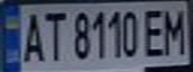0: (121, 7, 142, 58)
1: (90, 7, 109, 60), (109, 7, 124, 58)
8: (69, 7, 93, 61)
A: (18, 8, 45, 63)
E: (139, 6, 169, 57)
M: (160, 4, 190, 56)
T: (39, 7, 69, 62)
